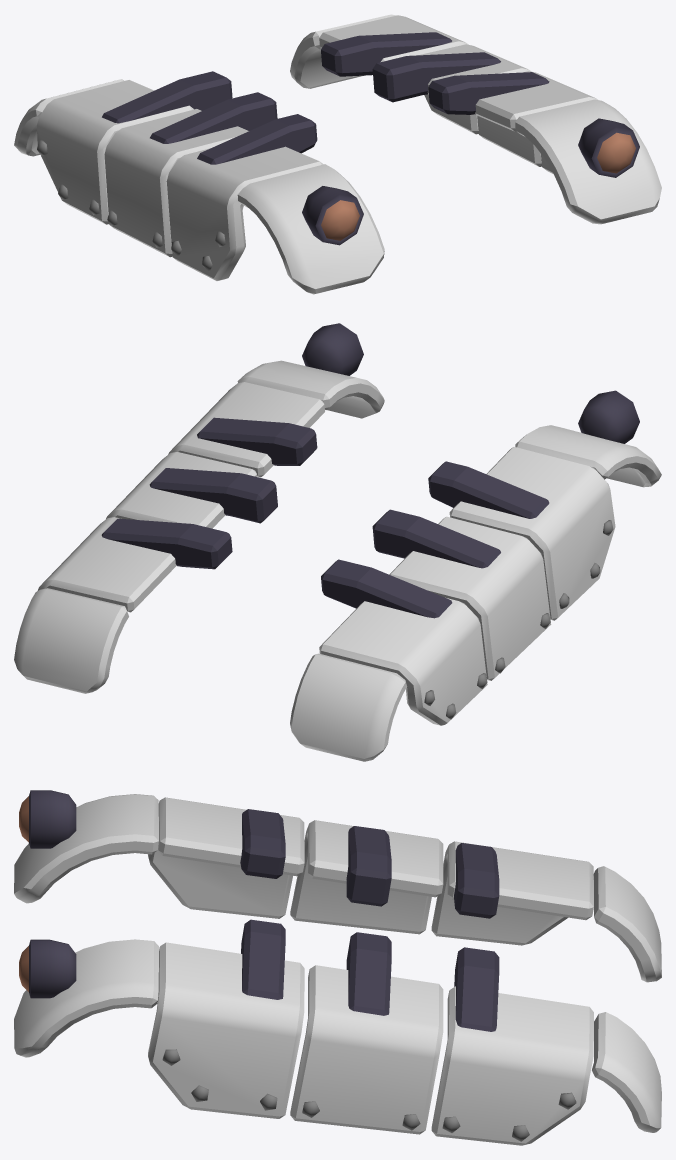
Rendered from Sides.fbx.
3 renders of one model, top to bottom at view 1: azimuth 30°, elevation 25°; view 2: azimuth 150°, elevation 25°; view 3: azimuth 270°, elevation 25°, orthographic. The views are drawn at different scales.
Visible parts, largest first — view 1: Sides, Cylinder.002; view 2: Sides, Cylinder.002; view 3: Sides, Cylinder.002.
Part boxes in pixels (box(x1,y1,x2,y2)): Sides: box(14, 14, 661, 294); Cylinder.002: box(37, 32, 639, 271); Sides: box(14, 360, 661, 761); Cylinder.002: box(101, 323, 639, 719); Sides: box(14, 794, 661, 1145); Cylinder.002: box(19, 790, 576, 1141).
Bounding box in the file's own units: 469 × 180 × 595.
